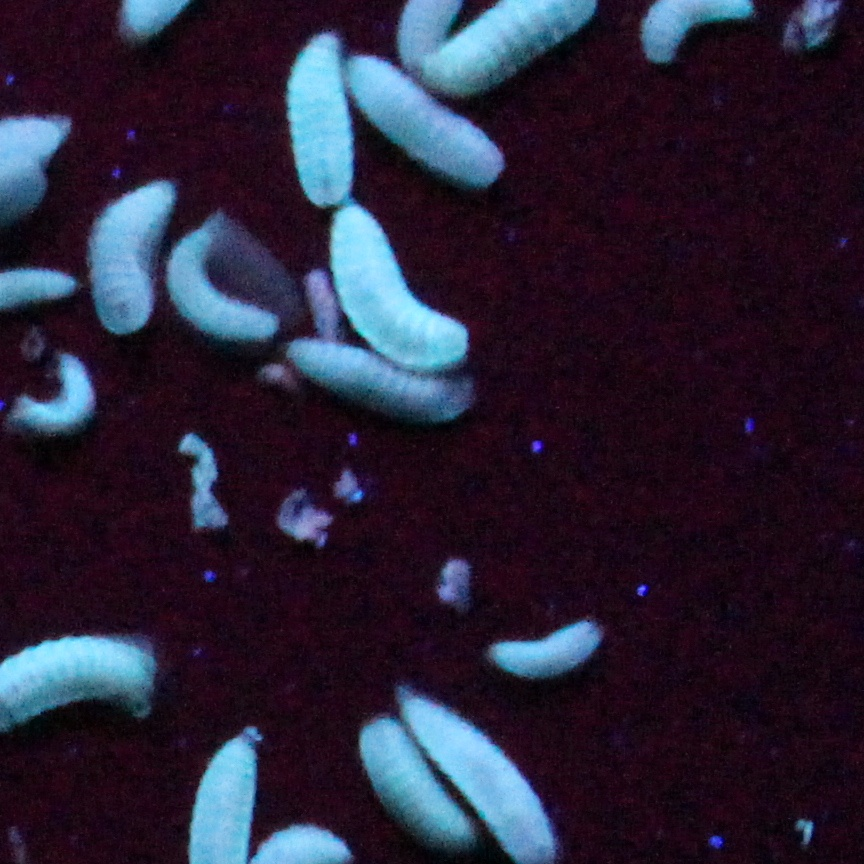larve: (339, 197, 472, 377), (353, 50, 502, 192), (279, 23, 363, 213), (169, 223, 276, 358), (292, 339, 466, 419), (99, 164, 172, 350), (485, 613, 605, 677), (21, 352, 92, 439)
